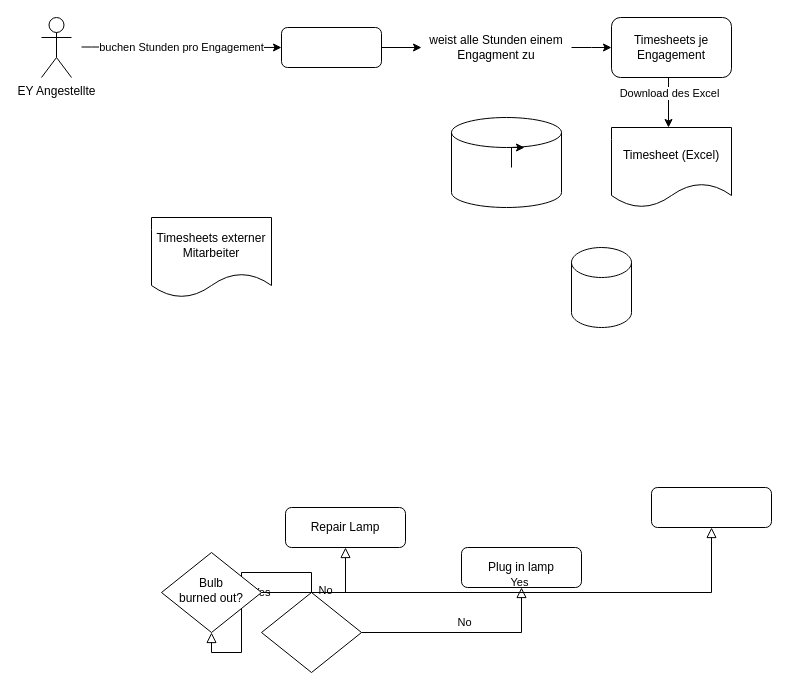
This 789x690 diagram has some shape labels left out. The shapes that lost their labels are listed below. From the top down, each one's centre as x and y in pixels, then its label:
At [331,47]: "Mercury".
At [506,162]: "ProjectReporting".
At [711,507]: "Replace Bulb".
At [311,632]: "Lamp plugged in?".
